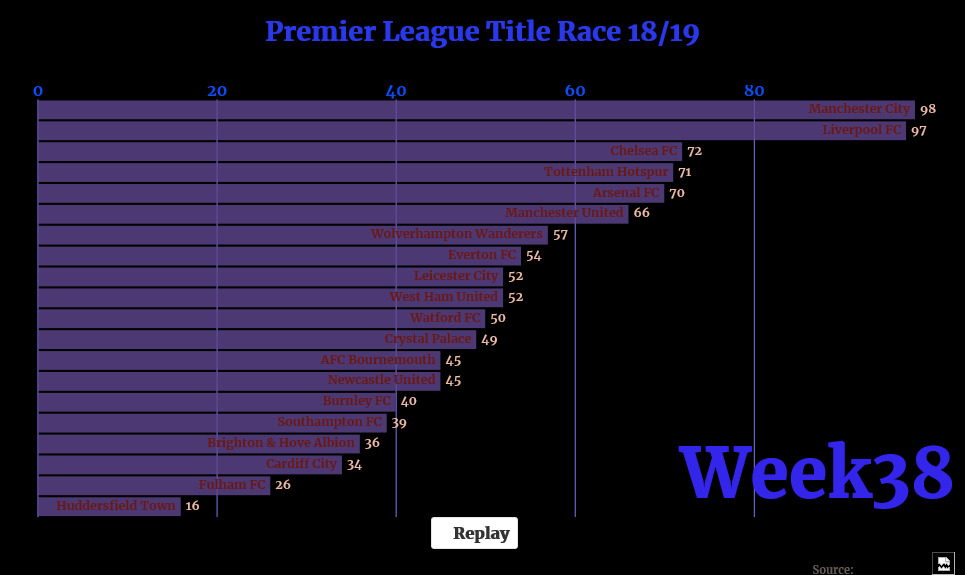

The dashboard page shown, as its layout file describes it:
{"tool":"tableau","page":{"name":"Title Race 2","canvas":[1000,500],"ordinal":1},"visuals":[{"type":"title","box":[8,8,984,37]},{"type":"worksheet","title":"Sheet 2","mark":"Bar","rows":["Position"],"cols":["Points"],"box":[7,45,990,448]},{"type":"currpage","title":"Sheet 2","box":[838,377,160,88]},{"type":"text","box":[847,467,150,30]},{"type":"text","box":[10,469,429,26]}]}

Visuals, with their boxes on the page's 1000x500 design canvas (x1, y1, x2, y2). These are canvas units, not pixel positions in the 965x575 screenshot, which may show the page scaled, cropped or inside an application window:
title: 8/8/992/45
"Sheet 2" worksheet (Bar marks): 7/45/997/493
"Sheet 2" currpage: 838/377/998/465
text: 847/467/997/497
text: 10/469/439/495
